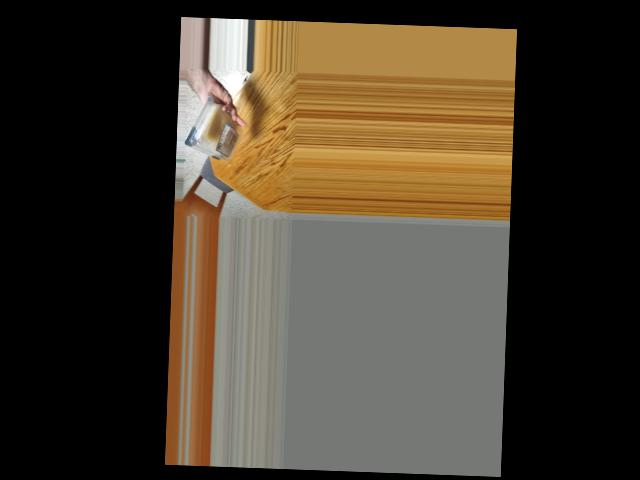cheese: (193, 101, 236, 161)
